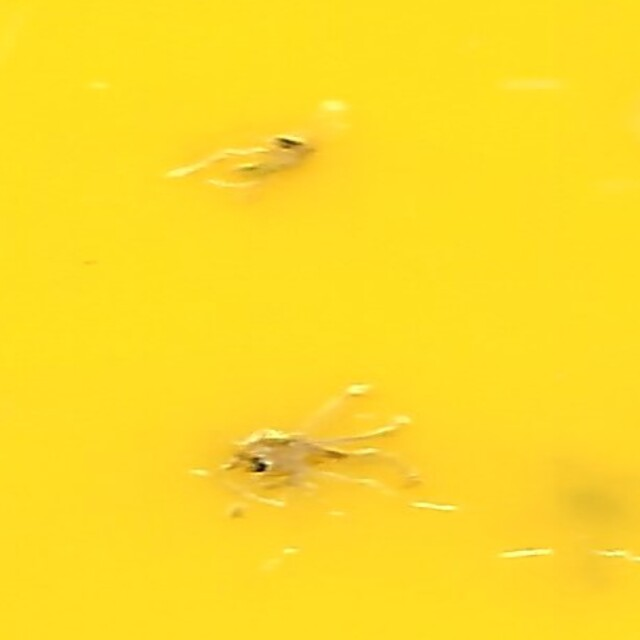Nematocera: (211, 419, 429, 507), (229, 133, 320, 196)
